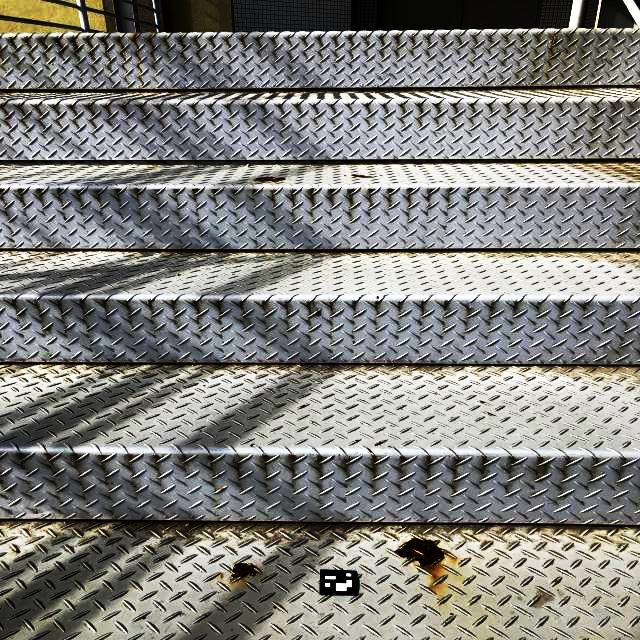Corrosion: (395, 538, 444, 567), (231, 563, 257, 579), (253, 176, 286, 182), (350, 175, 373, 178), (376, 296, 379, 299), (344, 175, 347, 176)
